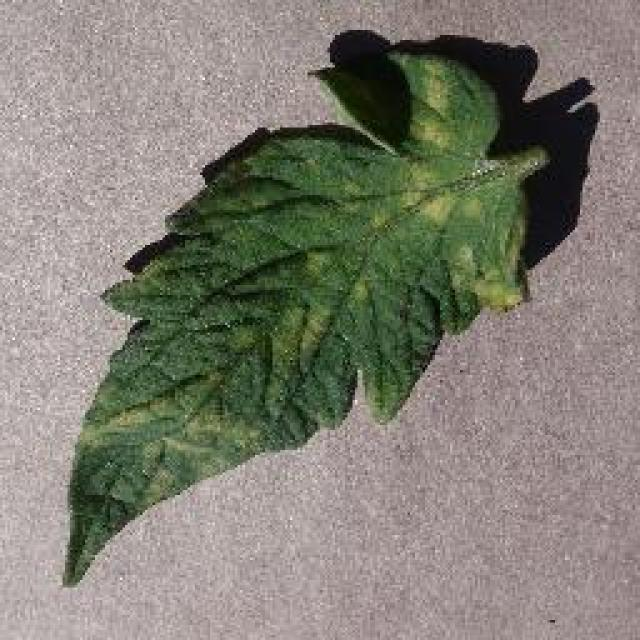Tomato___Leaf_Mold: (65, 52, 542, 585)
